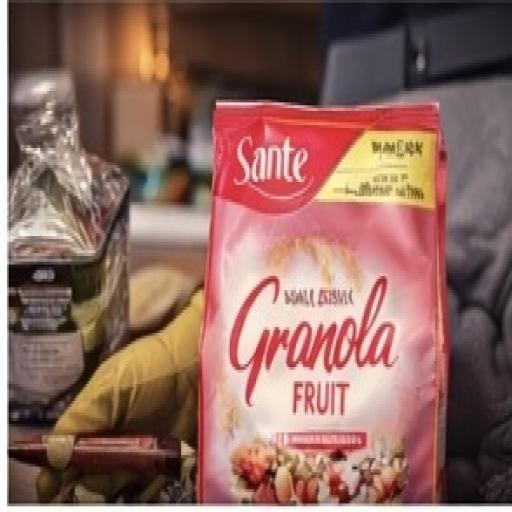granola: (170, 79, 459, 505)
